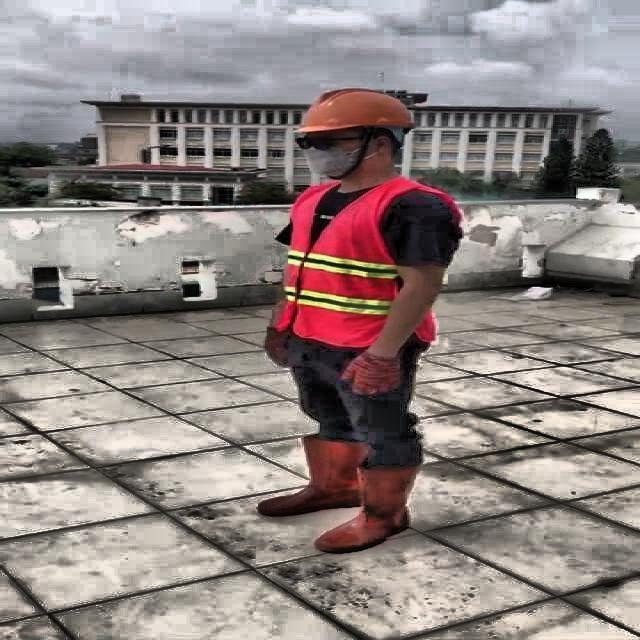safety_helmet: (290, 86, 422, 134)
safety_jacket: (279, 180, 441, 345)
